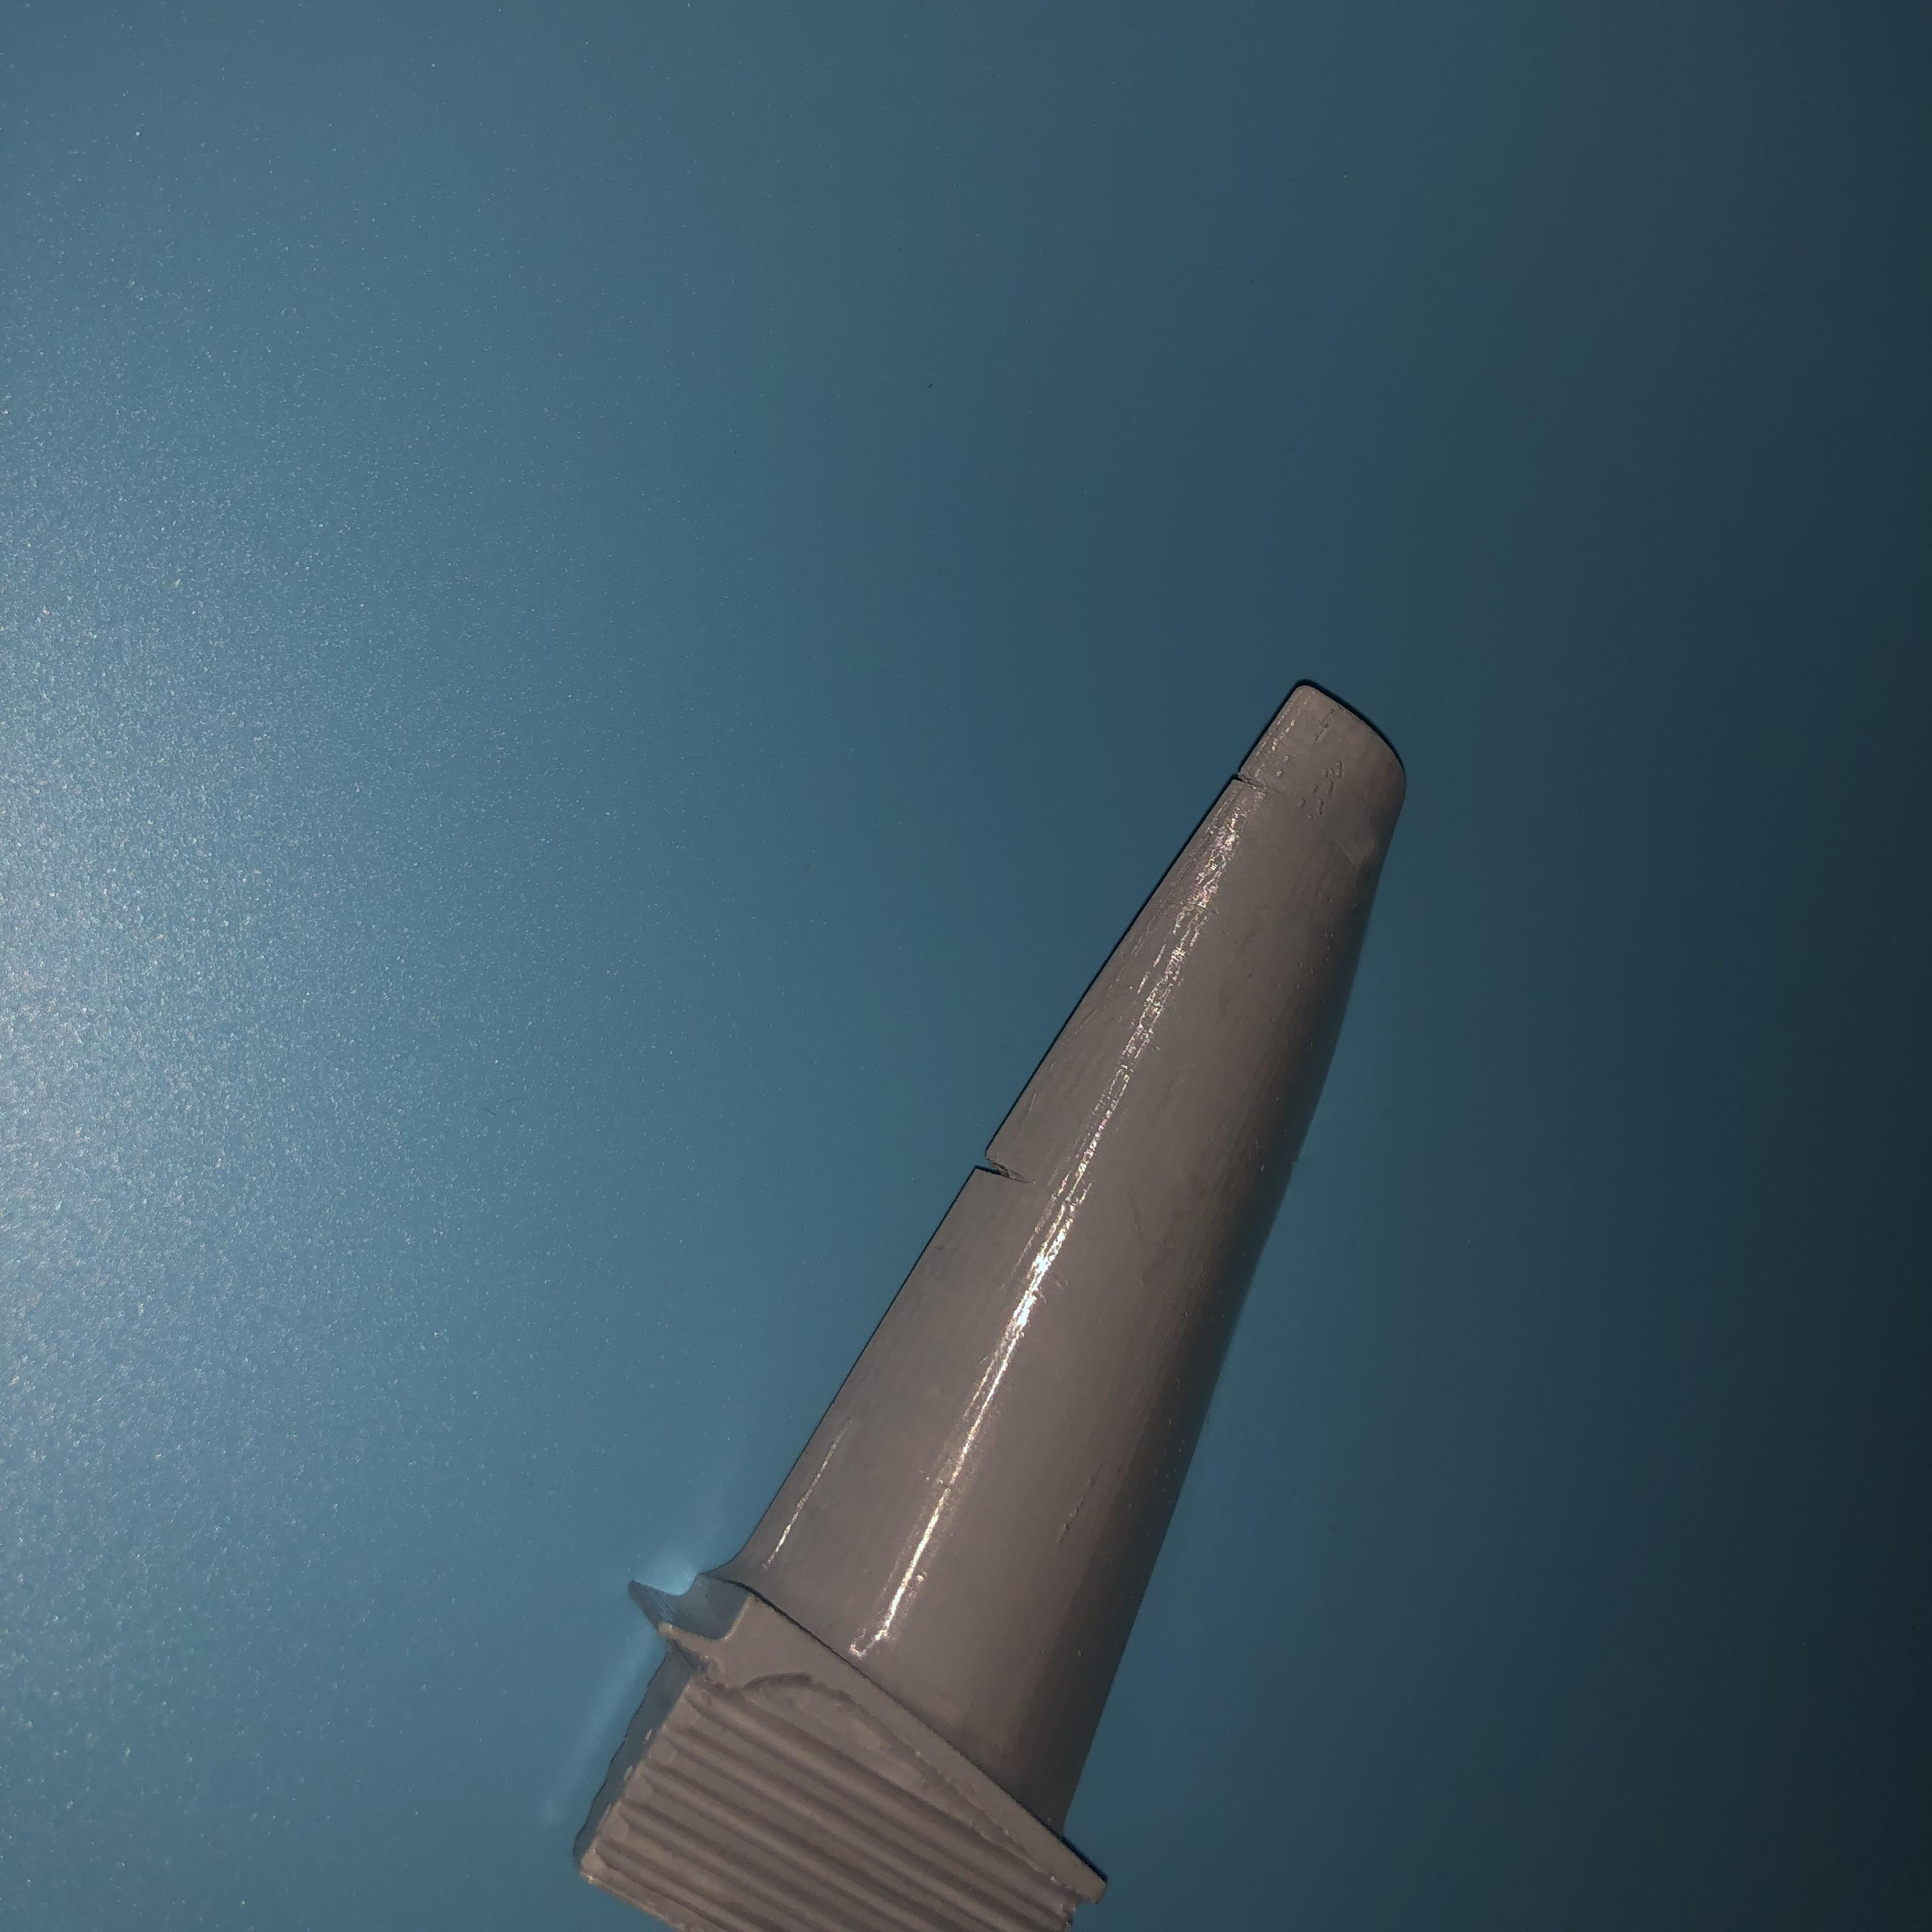groove: (971, 1145, 1030, 1185), (1228, 766, 1281, 800)
